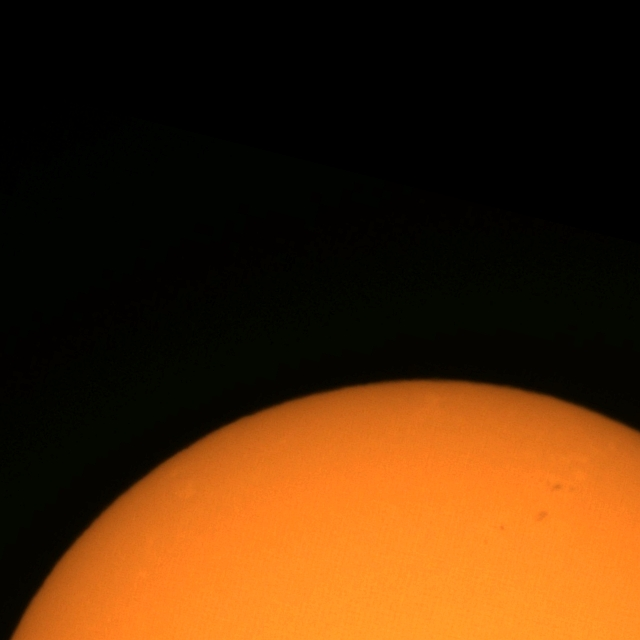sunspot: (535, 508, 550, 524)
